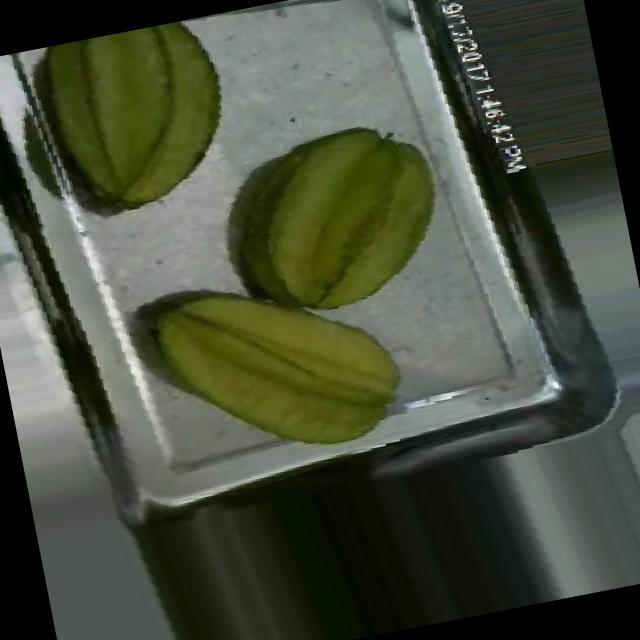fruit: (122, 239, 426, 492), (218, 91, 482, 348), (0, 10, 273, 243)
